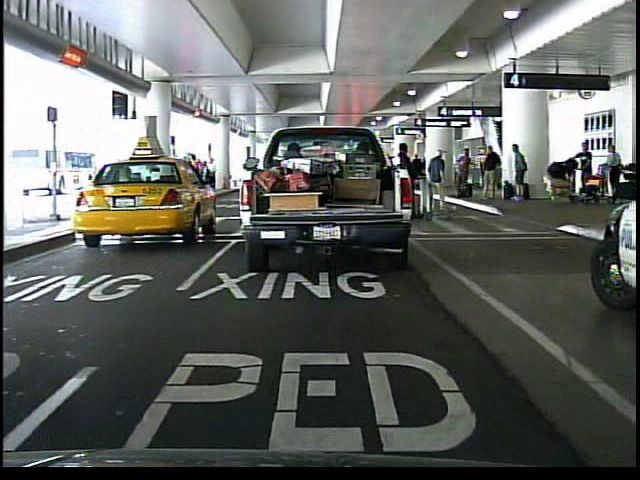person: (388, 137, 430, 223), (424, 146, 449, 216), (599, 142, 625, 208), (573, 141, 599, 201)
